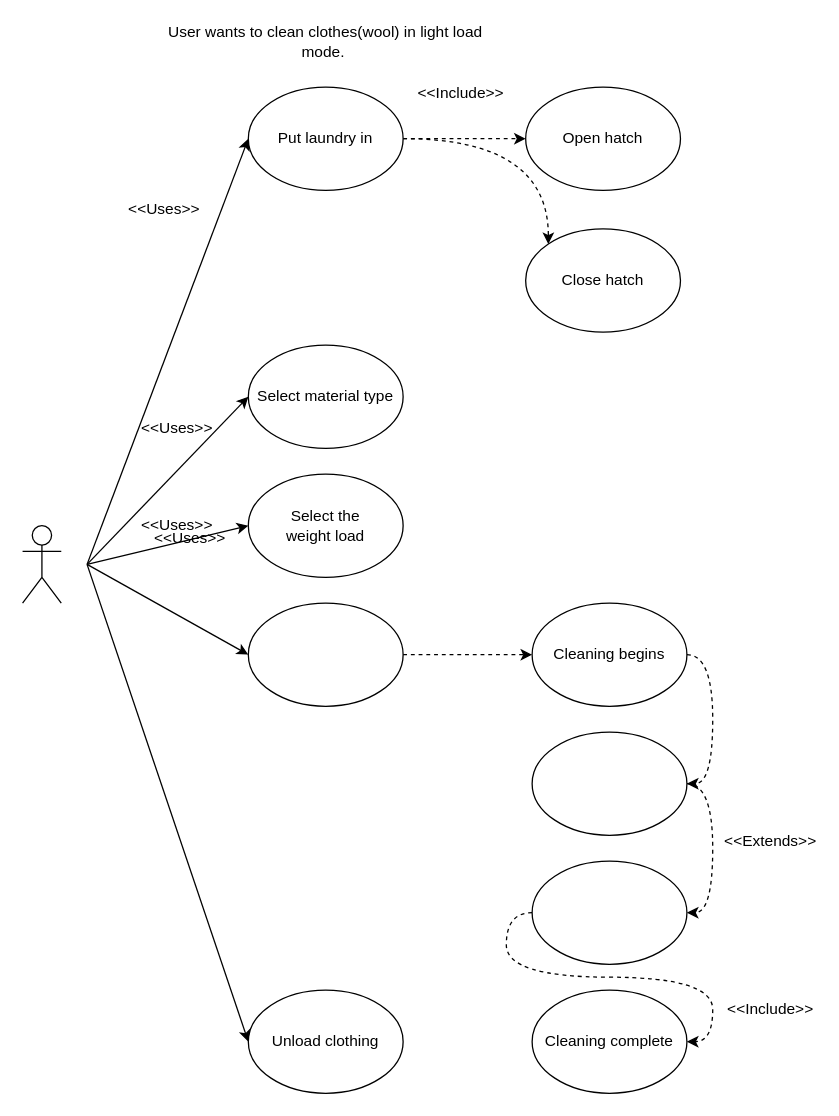
The diagram is 839 pixels wide and 1116 high, and some of its shapes have lost their labels. Here are the shapes that lost their labels. From the top down, the centre of each, then its label:
At pixel 41 563: "User".
At pixel 325 654: "Press start button".
At pixel 609 783: "7 segment timer counts down from 30 seconds".
At pixel 609 912: "7 segment timer reaches 0 second".
